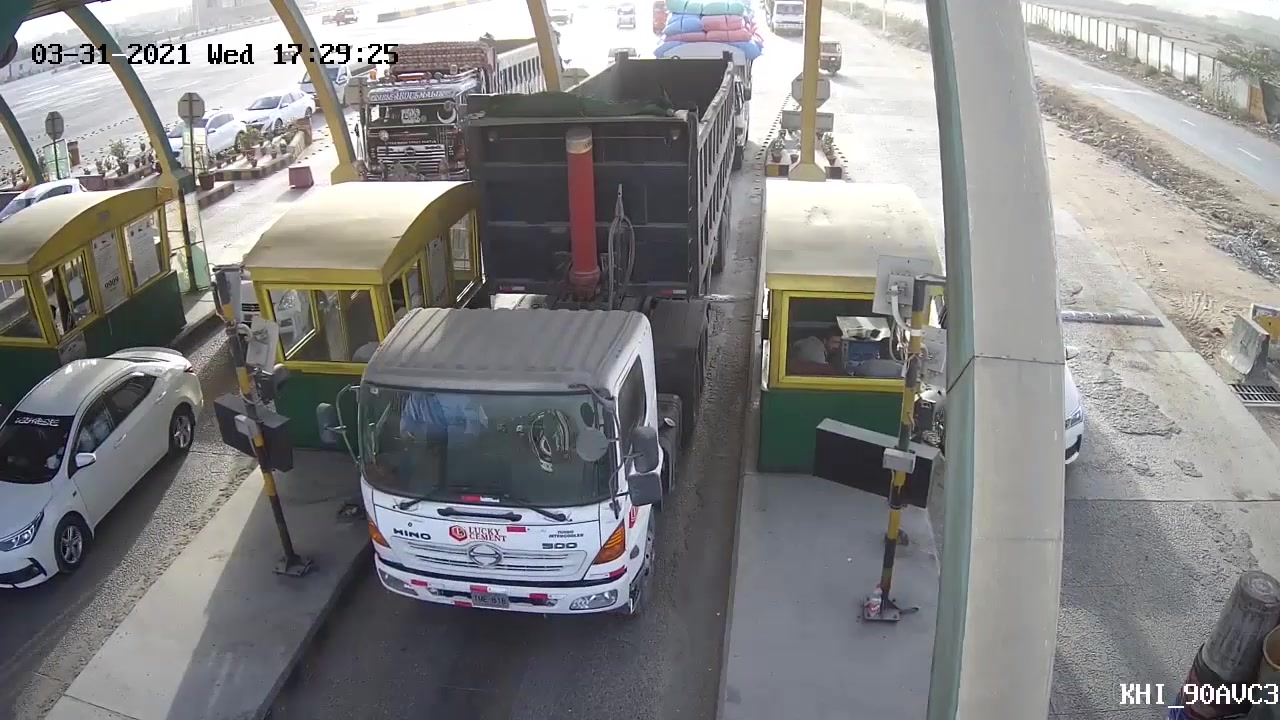F6: (316, 62, 733, 635)
